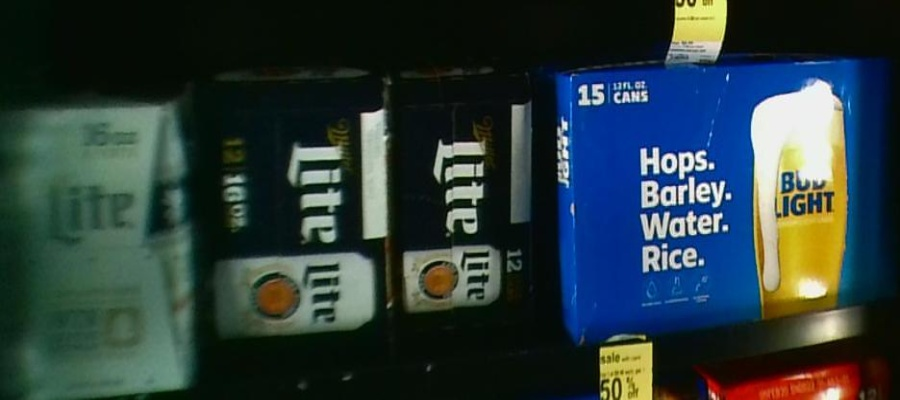bottle: (552, 63, 892, 323), (1, 97, 203, 395), (202, 76, 397, 351), (394, 70, 535, 318)
